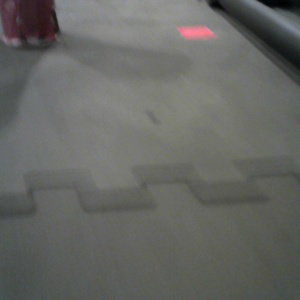Middle: (1, 1, 62, 48)
